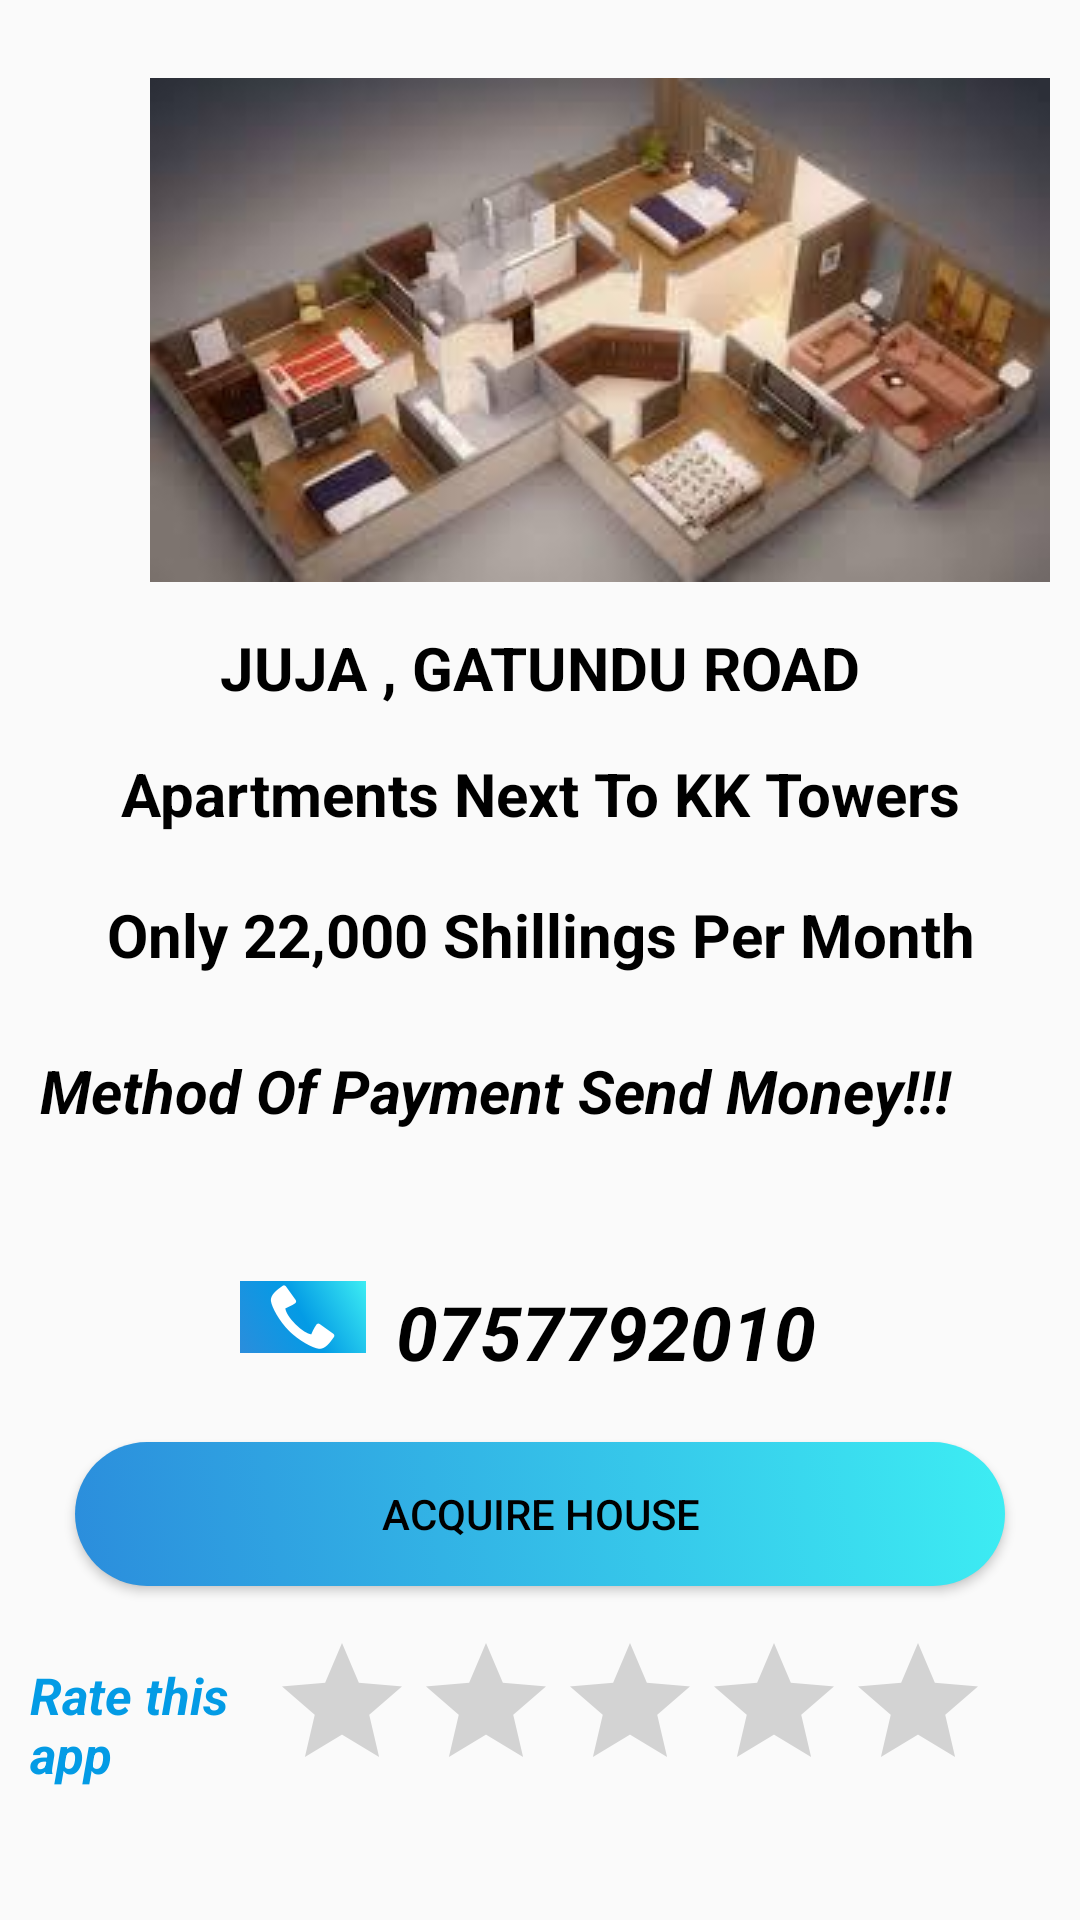

Where to tap for icons on this 1080 x 1920 app screen, as (x,y):
phone call: (303,1317)
